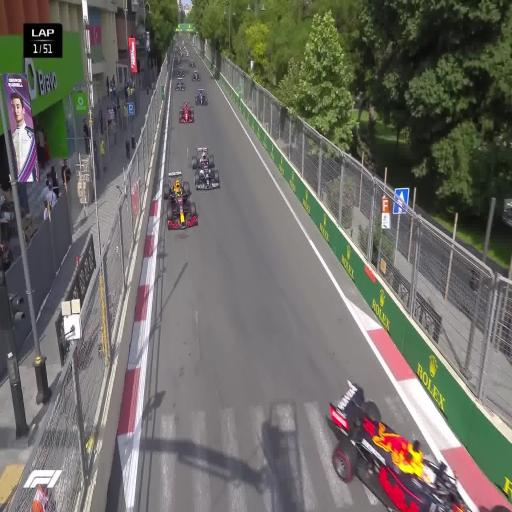f1_car: (328, 381, 467, 511), (163, 172, 197, 229), (192, 147, 220, 189), (179, 102, 194, 122), (195, 89, 207, 105), (175, 78, 185, 90), (192, 69, 201, 81), (177, 67, 185, 77), (189, 58, 194, 67)
